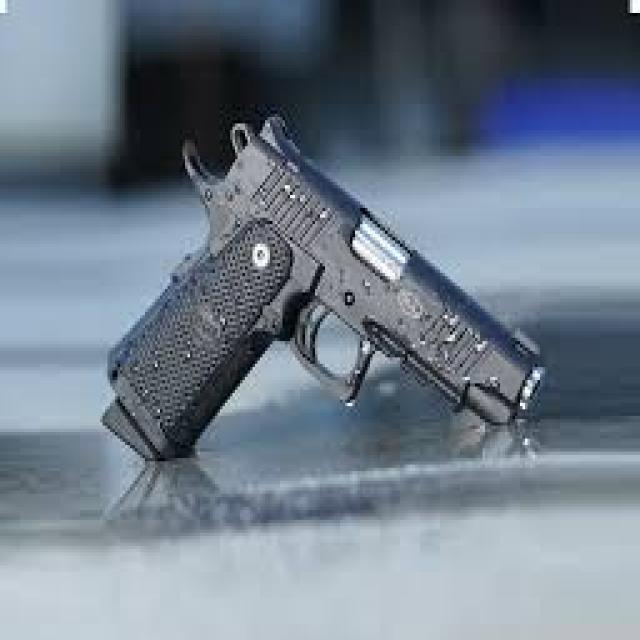semi automatic: (89, 92, 566, 518)
